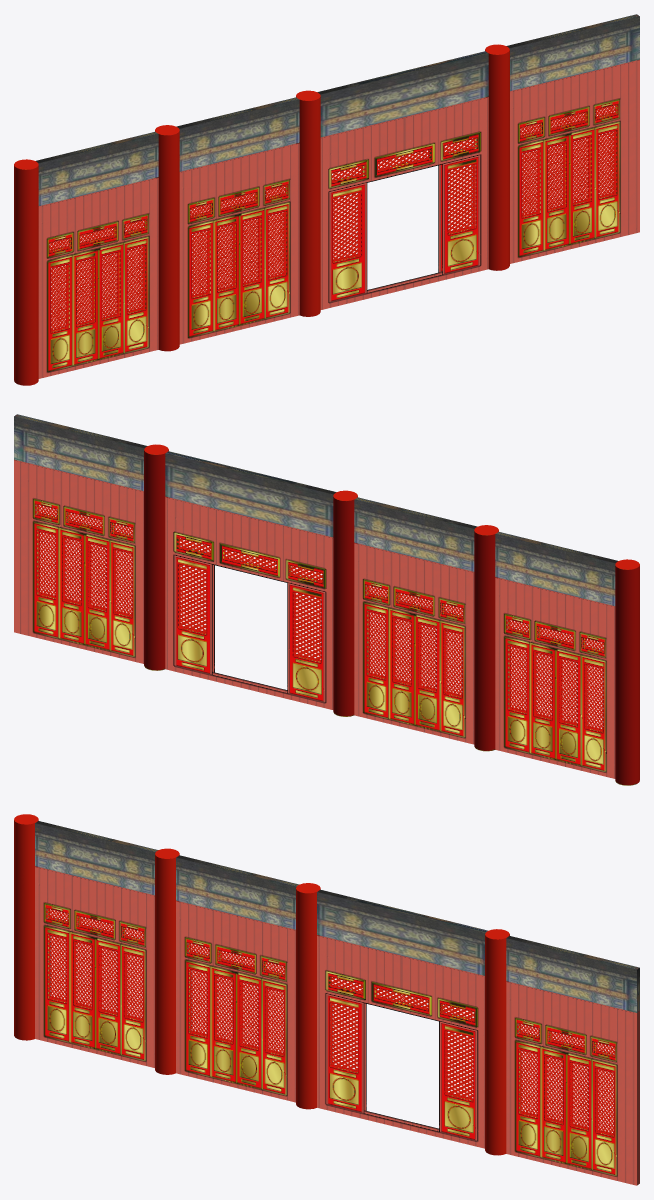
The model's file is wallwalldoorwall.dae.
3 renders of one model, top to bottom at view 1: azimuth 30°, elevation 25°; view 2: azimuth 150°, elevation 25°; view 3: azimuth 330°, elevation 25°, orthographic.
Parts seen in each view (by area): view 1: MainNode; view 2: MainNode; view 3: MainNode.
Boxes of the visible parts, x1,y1,x2,y2 form: MainNode: (14, 14, 639, 385); MainNode: (14, 414, 639, 785); MainNode: (14, 814, 639, 1185).
Bounding box in the file's own units: 14.49 × 4.8 × 0.4904.
1 material, 1 textured.
